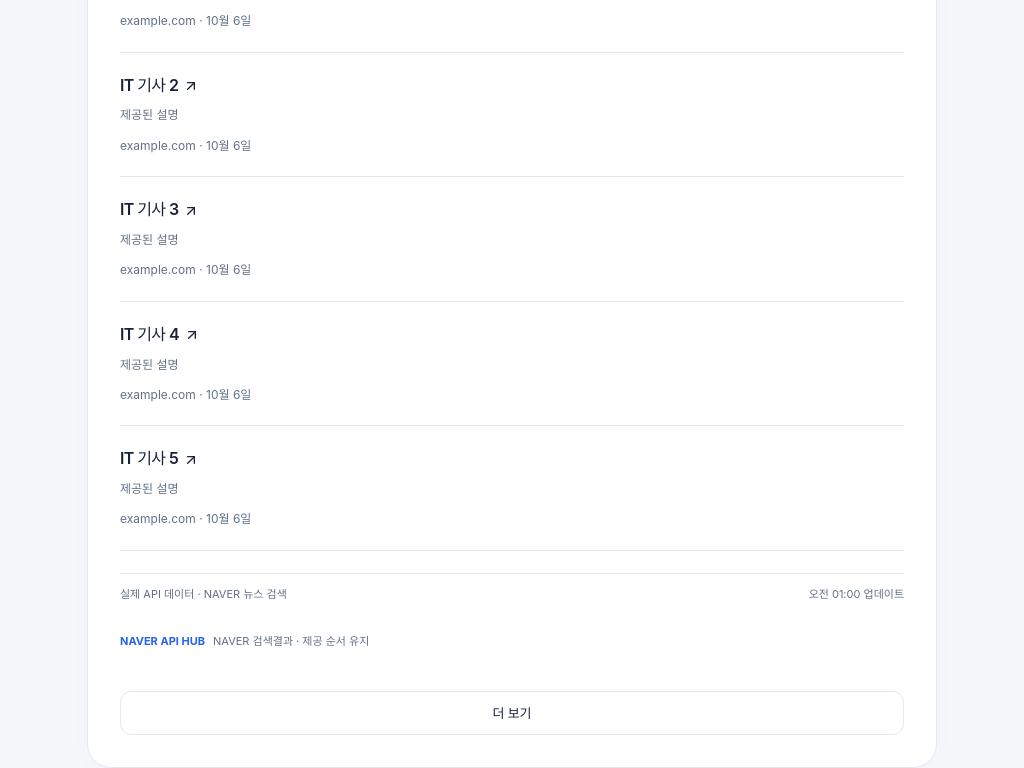
더 보기 실패는 기존 기사를 지우지 않고 같은 offset으로 재시도한다
(page scrolled)
Click the button "더 보기" at point(512, 714), box [120,692,904,736]
(page scrolled)
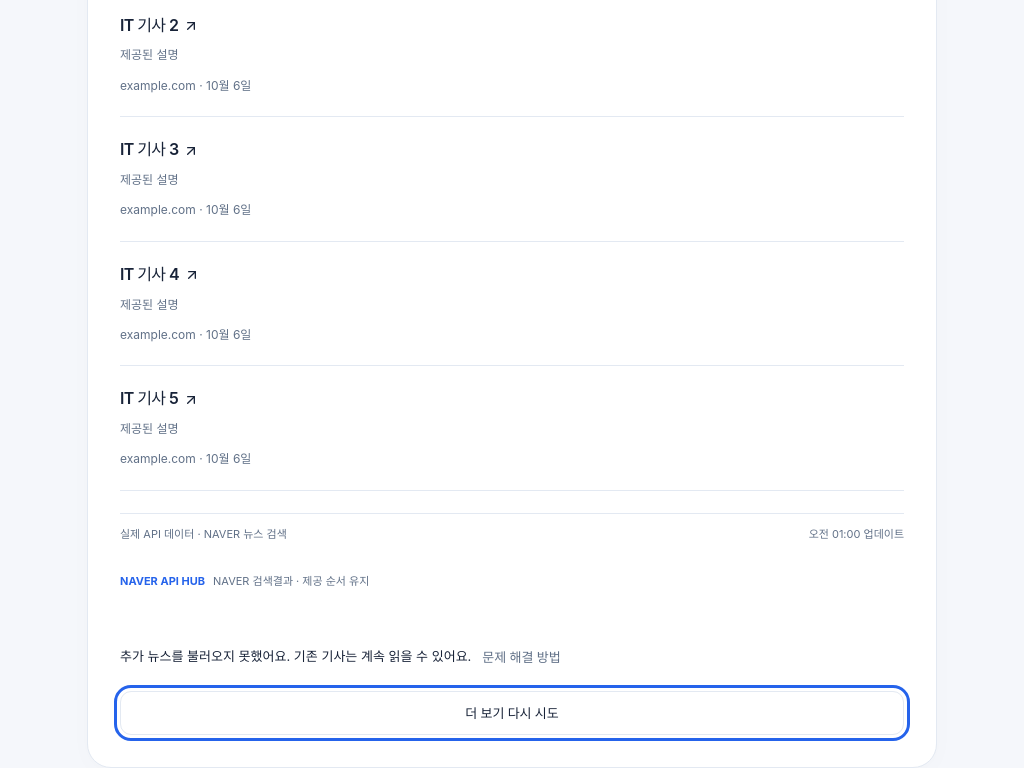
expect the text "추가 뉴스를 불러오지 못했어요. 기존 기사는 계속 읽을 수 있어요. 문제 해결 방법" is shown: met, box [120,636,572,680]
Click the button "더 보기 다시 시도" at point(512, 714), box [120,692,904,736]
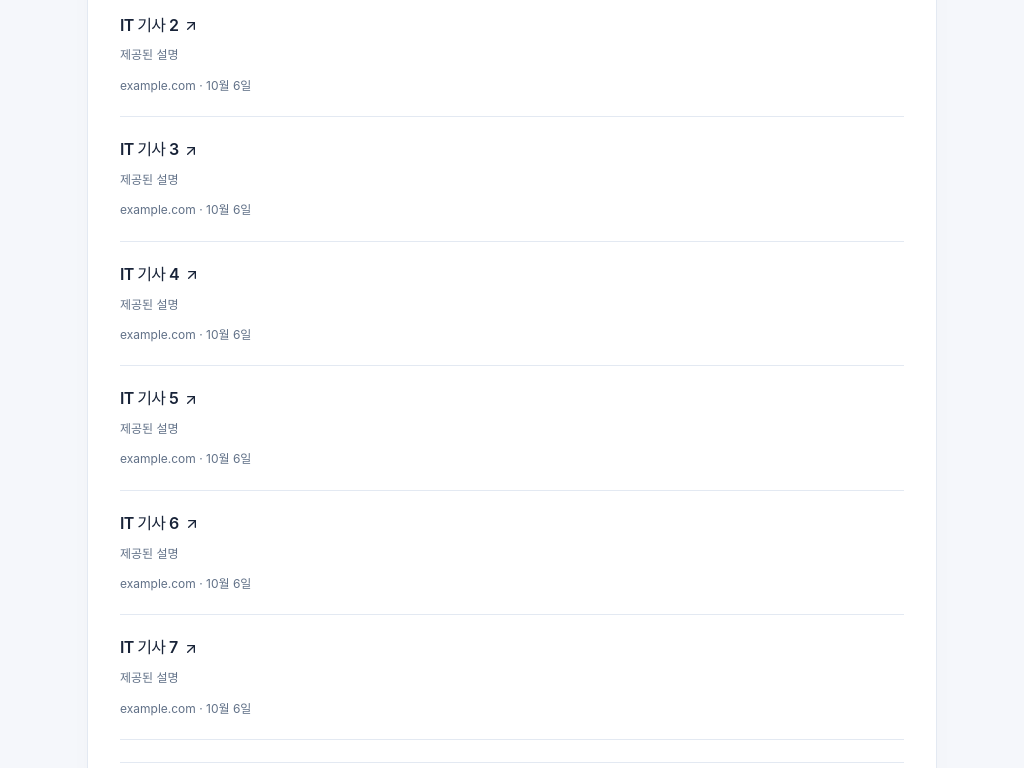
expect the link "IT 기사 7" is shown: met, box [120,637,198,657]
expect the button "더 보기" is gone: met
